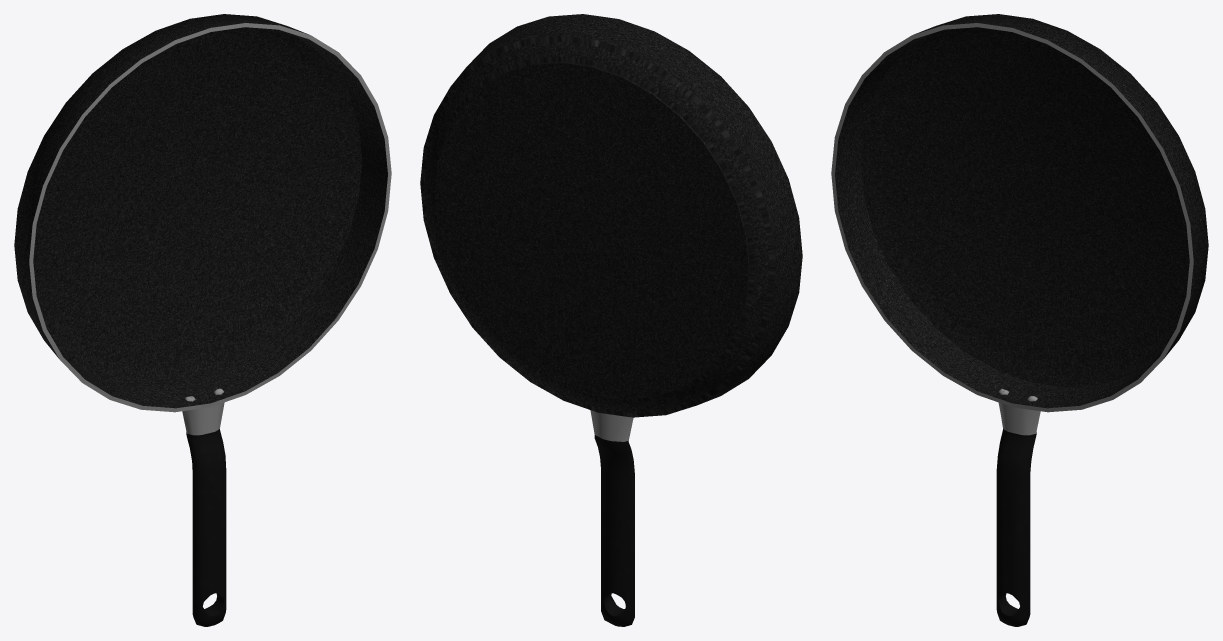
Rendered from pan.dae.
3 views of the same model, side by side, from view 1: azimuth 30°, elevation 25°; view 2: azimuth 150°, elevation 25°; view 3: azimuth 330°, elevation 25° (orthographic).
Parts seen in each view (by area): view 1: Frying Pan Ø36cm; view 2: Frying Pan Ø36cm; view 3: Frying Pan Ø36cm.
Boxes of the visible parts, bbox=[...] form: Frying Pan Ø36cm: bbox=[14, 14, 391, 626]; Frying Pan Ø36cm: bbox=[420, 14, 802, 626]; Frying Pan Ø36cm: bbox=[831, 14, 1208, 626].
Bounding box in the file's own units: 0.2219 × 0.033 × 0.35.
Materials: 1 (1 with a texture image).
